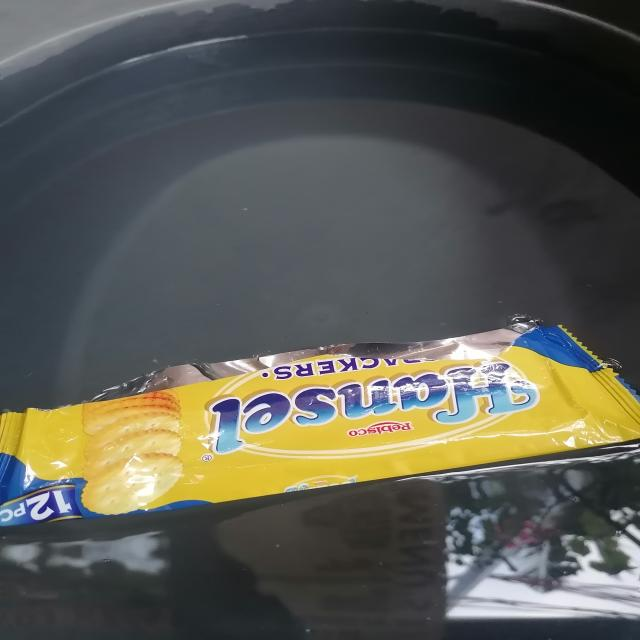Plastic Wrapper: (0, 301, 640, 544)
